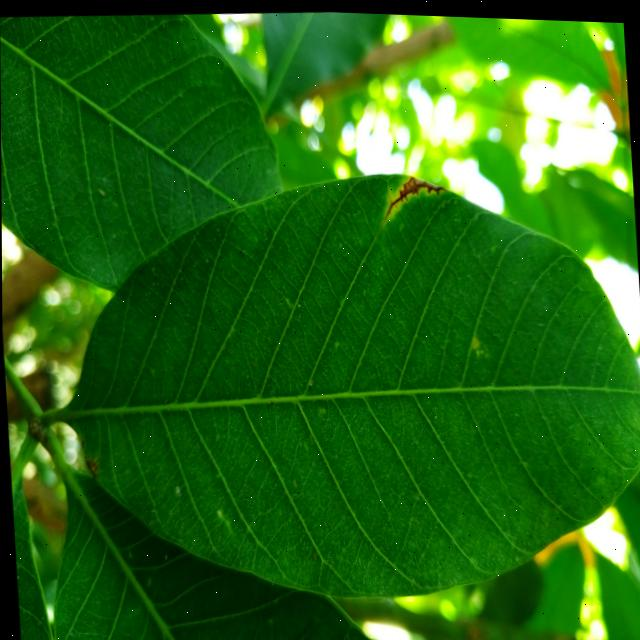Corynespora: (381, 170, 447, 222)
